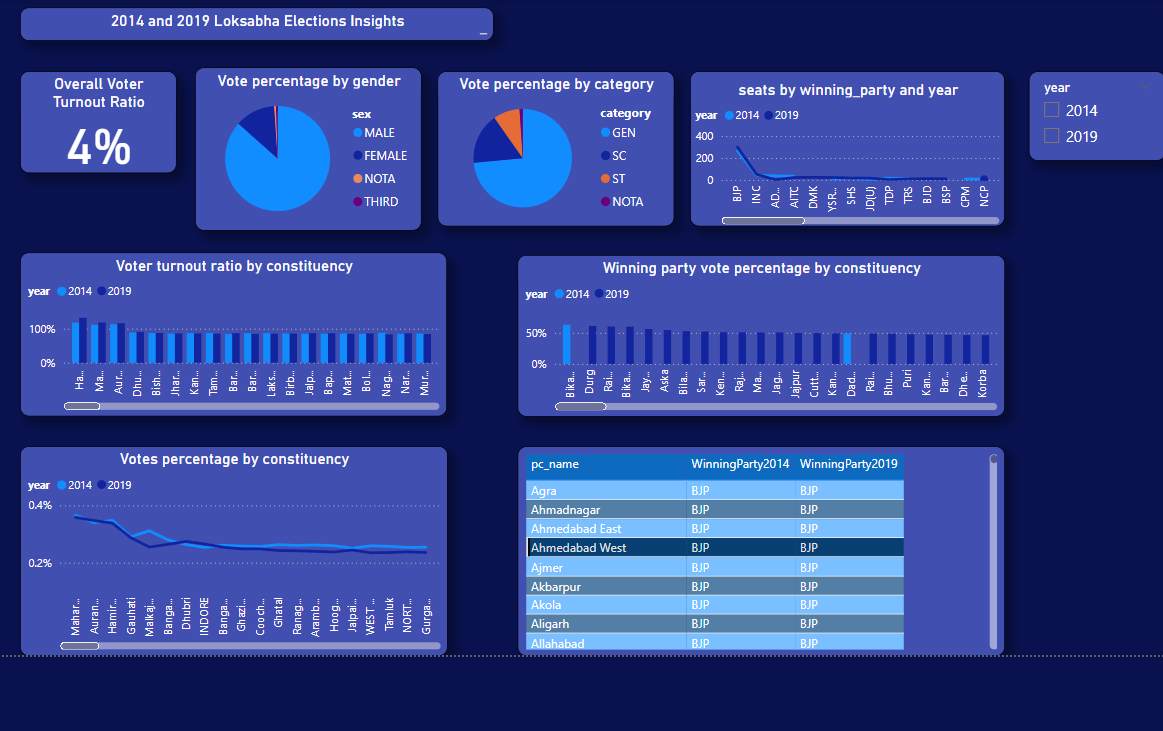

The dashboard page shown, as its layout file describes it:
{"tool":"powerbi","page":{"name":"Page 1","canvas":[1280,720],"ordinal":0},"visuals":[{"type":"card","title":"Overall Voter Turnout Ratio","fields":{"Values":["measures (2).Overall Voter Turnout Ratio"]},"box":[22.4,78.4,171.7,112],"z":0},{"type":"clusteredColumnChart","title":"Voter turnout ratio by constituency ","fields":{"Category":["constituency_wise_results_2014_2019.pc_name"],"Series":["constituency_wise_results_2014_2019.year"],"Y":["measures (2).voter_turnout_ratio"]},"box":[22.4,277.4,469,180.4],"z":1000},{"type":"pieChart","title":"Vote percentage by gender","fields":{"Category":["constituency_wise_results_2014_2019.sex"],"Y":["Sum(constituency_wise_results_2014_2019.total_votes)"]},"box":[214,74.6,248.8,179.1],"z":2000},{"type":"clusteredColumnChart","title":"Winning party vote percentage by constituency","fields":{"Category":["constituency_wise_results_2014_2019.pc_name"],"Y":["measures (2).winning_votes_percentage"],"Series":["constituency_wise_results_2014_2019.year"]},"box":[568.5,279.9,534.9,177.9],"z":3000},{"type":"pieChart","title":"Vote percentage by category","fields":{"Category":["constituency_wise_results_2014_2019.category"],"Y":["measures (2).Measure 2"]},"box":[480.2,78.4,260,170.4],"z":4000},{"type":"lineChart","title":"Votes percentage by constituency ","fields":{"Category":["constituency_wise_results_2014_2019.pc_name"],"Y":["measures (2).votes_percentage"],"Series":["constituency_wise_results_2014_2019.year"]},"box":[22,489.9,469.3,230.5],"z":5000},{"type":"textbox","title":"2014 and 2019 Loksabha Elections Insights","box":[22,8.2,520.1,37],"z":7000},{"type":"slicer","fields":{"Values":["constituency_wise_results_2014_2019.year"]},"box":[1129.5,78.4,150.5,98.3],"z":8000},{"type":"lineChart","fields":{"Y":["measures (2).seats"],"Series":["constituency_wise_results_2014_2019.year"],"Category":["constituency_wise_results_2014_2019.winning_party"]},"box":[757.6,78.4,345.8,170.4],"z":9000},{"type":"tableEx","fields":{"Values":["SamePartyConstituenciesTable.pc_name","SamePartyConstituenciesTable.WinningParty2014","SamePartyConstituenciesTable.WinningParty2019"]},"box":[568.5,489.9,534.9,230.1],"z":9001}]}

Visuals, with their boxes on the page's 1280x720 design canvas (x1, y1, x2, y2). These are canvas units, not pixel positions in the 1163x731 screenshot, which may show the page scaled, cropped or inside an application window:
"Overall Voter Turnout Ratio" card: {"x1": 22, "y1": 78, "x2": 194, "y2": 190}
"Voter turnout ratio by constituency " clusteredColumnChart: {"x1": 22, "y1": 277, "x2": 491, "y2": 458}
"Vote percentage by gender" pieChart: {"x1": 214, "y1": 75, "x2": 463, "y2": 254}
"Winning party vote percentage by constituency" clusteredColumnChart: {"x1": 568, "y1": 280, "x2": 1103, "y2": 458}
"Vote percentage by category" pieChart: {"x1": 480, "y1": 78, "x2": 740, "y2": 249}
"Votes percentage by constituency " lineChart: {"x1": 22, "y1": 490, "x2": 491, "y2": 720}
"2014 and 2019 Loksabha Elections Insights" textbox: {"x1": 22, "y1": 8, "x2": 542, "y2": 45}
slicer - constituency_wise_results_2014_2019.year: {"x1": 1130, "y1": 78, "x2": 1280, "y2": 177}
lineChart - measures (2).seats x constituency_wise_results_2014_2019.year: {"x1": 758, "y1": 78, "x2": 1103, "y2": 249}
tableEx - SamePartyConstituenciesTable.pc_name x SamePartyConstituenciesTable.WinningParty2014: {"x1": 568, "y1": 490, "x2": 1103, "y2": 720}
